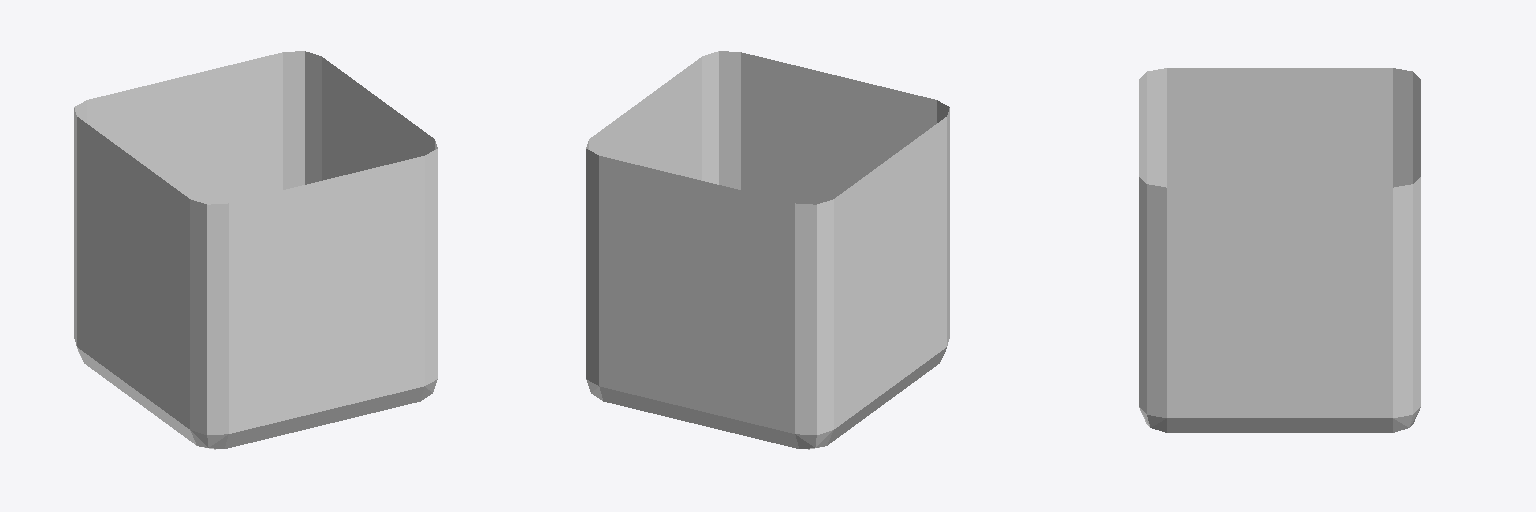
The model's file is Grass_Bottom.obj.
3 views of the same model, side by side, from view 1: azimuth 30°, elevation 25°; view 2: azimuth 150°, elevation 25°; view 3: azimuth 270°, elevation 25° (orthographic).
Visible parts, largest first — view 1: Grass_Top.001; view 2: Grass_Top.001; view 3: Grass_Top.001.
Part boxes in pixels (x1,y1,x2,y2): Grass_Top.001: (74, 51, 437, 449); Grass_Top.001: (586, 51, 949, 449); Grass_Top.001: (1139, 68, 1420, 432).
Bounding box in the file's own units: 1 × 1 × 1.